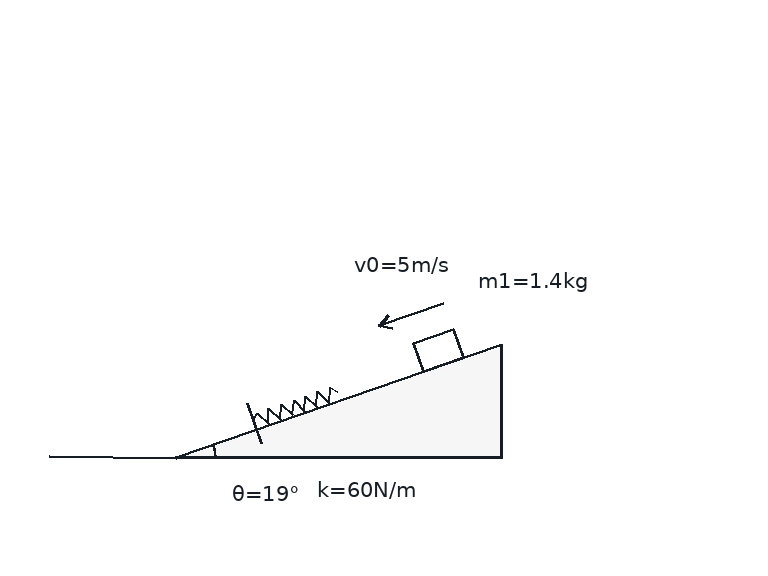block: (411, 327, 465, 374)
ramp: (173, 343, 502, 459)
spring: (251, 385, 340, 425)
